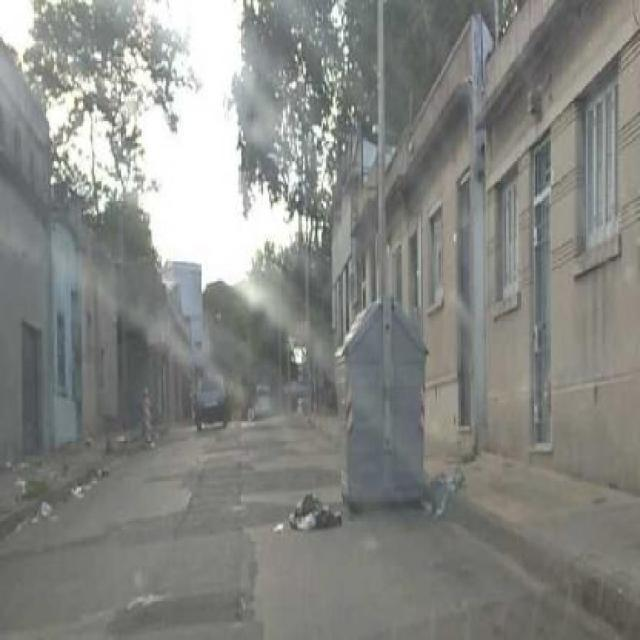garbage: (9, 463, 93, 523), (281, 482, 346, 540), (434, 461, 472, 516)
